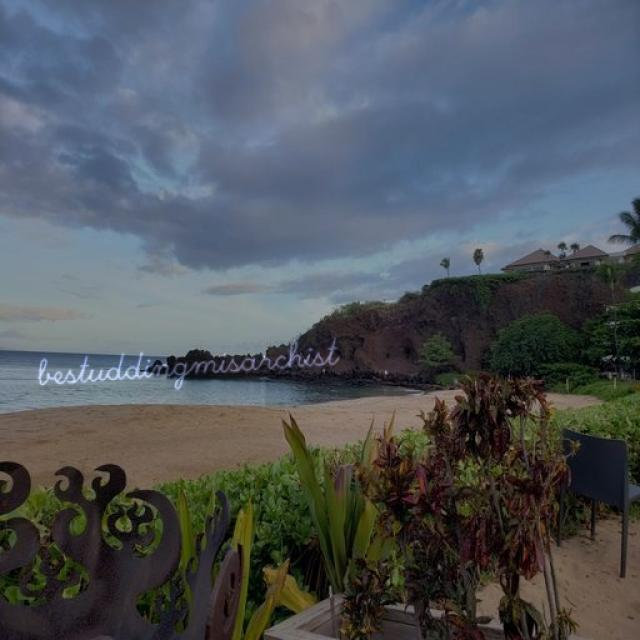watermark: (30, 336, 338, 390)
